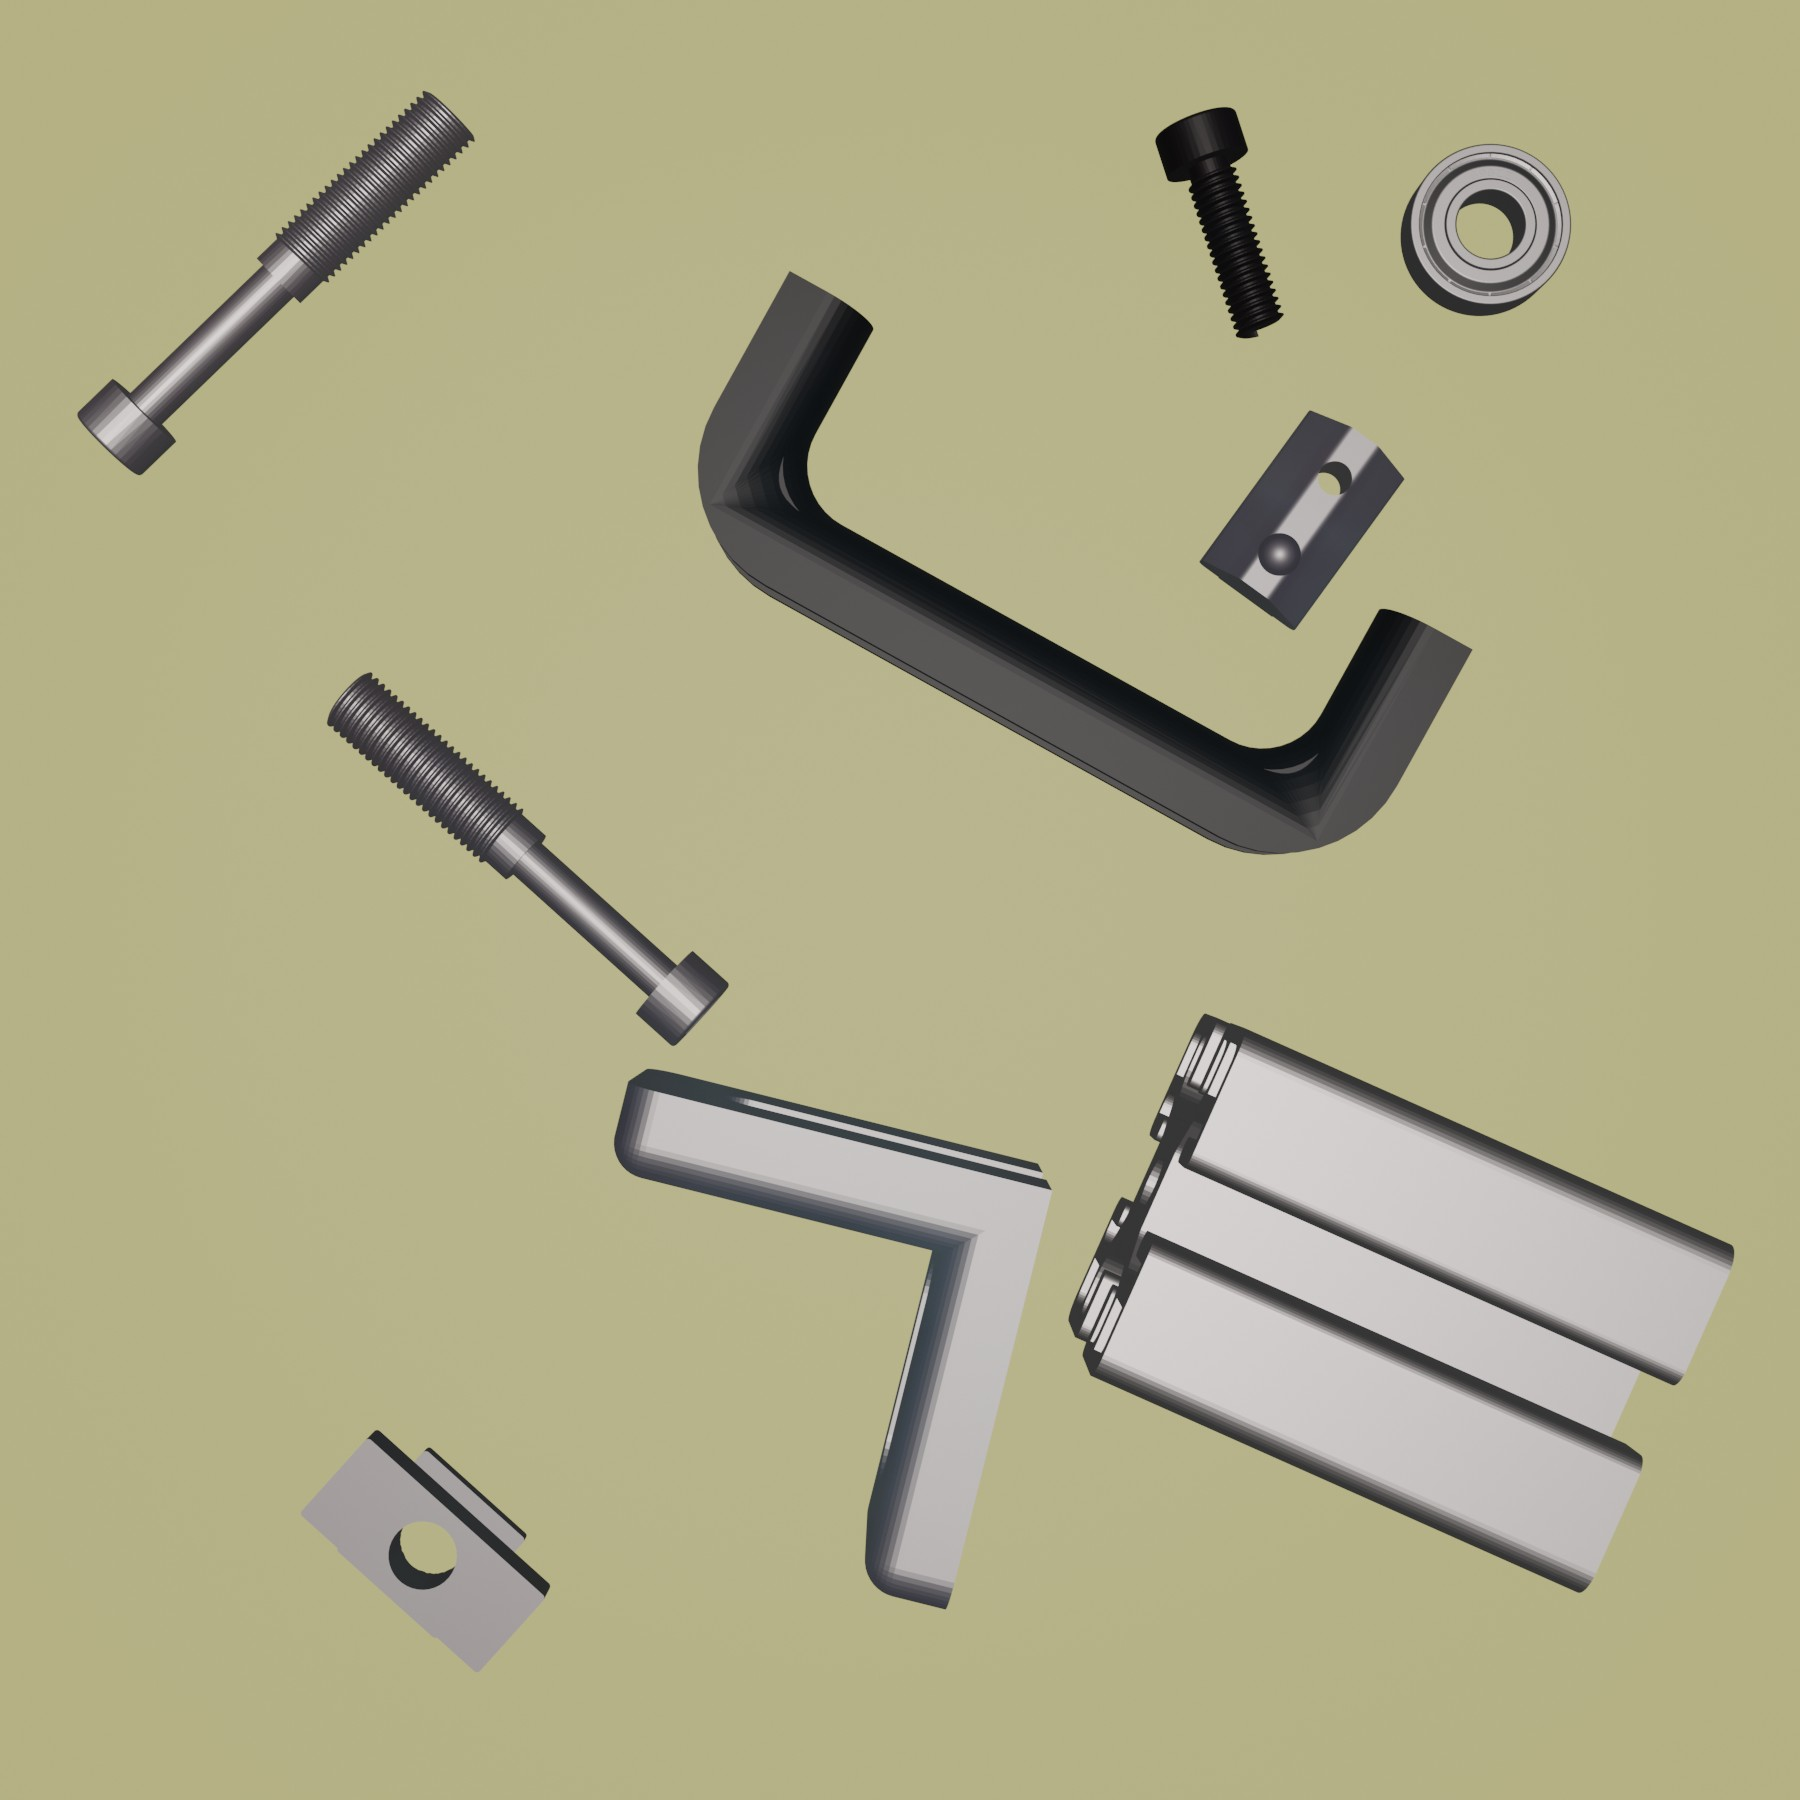Aluminium Extension: (1066, 1009, 1736, 1596)
Ball Bearing: (1396, 138, 1574, 318)
Multiwinkel: (612, 1063, 1057, 1612)
Pull Handle: (696, 269, 1470, 859)
Shoulder Socket Head Cap Screw: (323, 668, 734, 1050), (77, 89, 475, 478)
Socket Head Cap Screw: (1151, 102, 1287, 343)
T Nut Square: (298, 1423, 552, 1676)
T Spring Nut: (1197, 407, 1408, 635)
